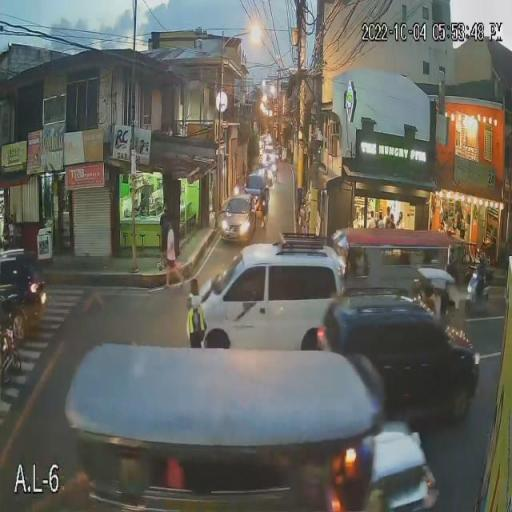motorcycle: (462, 272, 490, 314)
rider: (472, 252, 490, 292)
